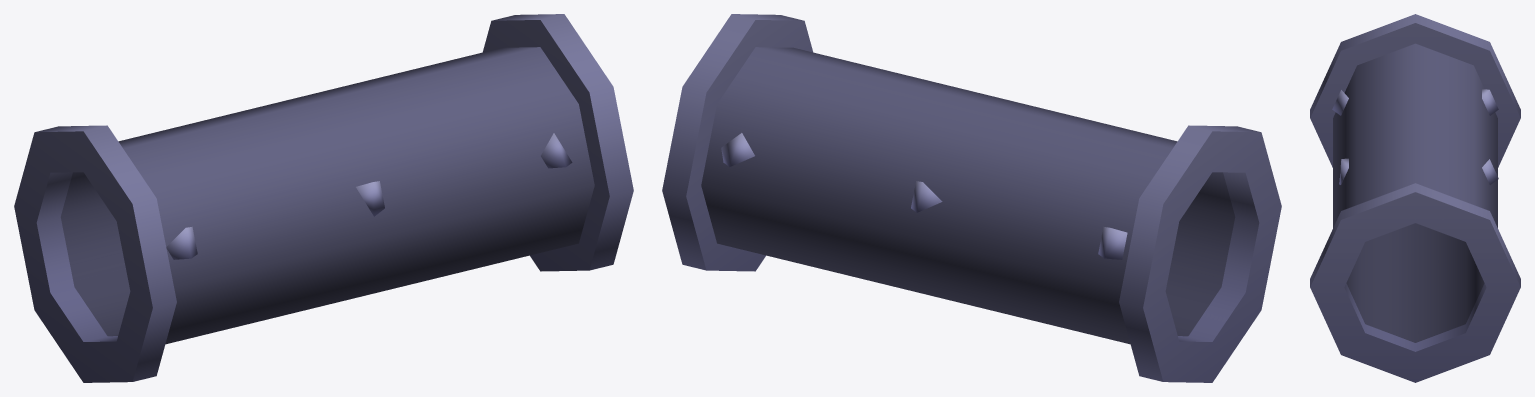
Rendered from cc0-pipe-long-lod1.glb.
3 views of the same model, side by side, from view 1: azimuth 30°, elevation 25°; view 2: azimuth 150°, elevation 25°; view 3: azimuth 270°, elevation 25° (orthographic). The views are drawn at different scales.
Visible parts, largest first — view 1: part_0; view 2: part_0; view 3: part_0.
Part boxes in pixels (bbox=[...]): part_0: bbox=[14, 14, 633, 382]; part_0: bbox=[662, 14, 1281, 382]; part_0: bbox=[1310, 14, 1520, 382].
Size of the model in its own units: 2 by 1 by 1.
1 material, 1 textured.
